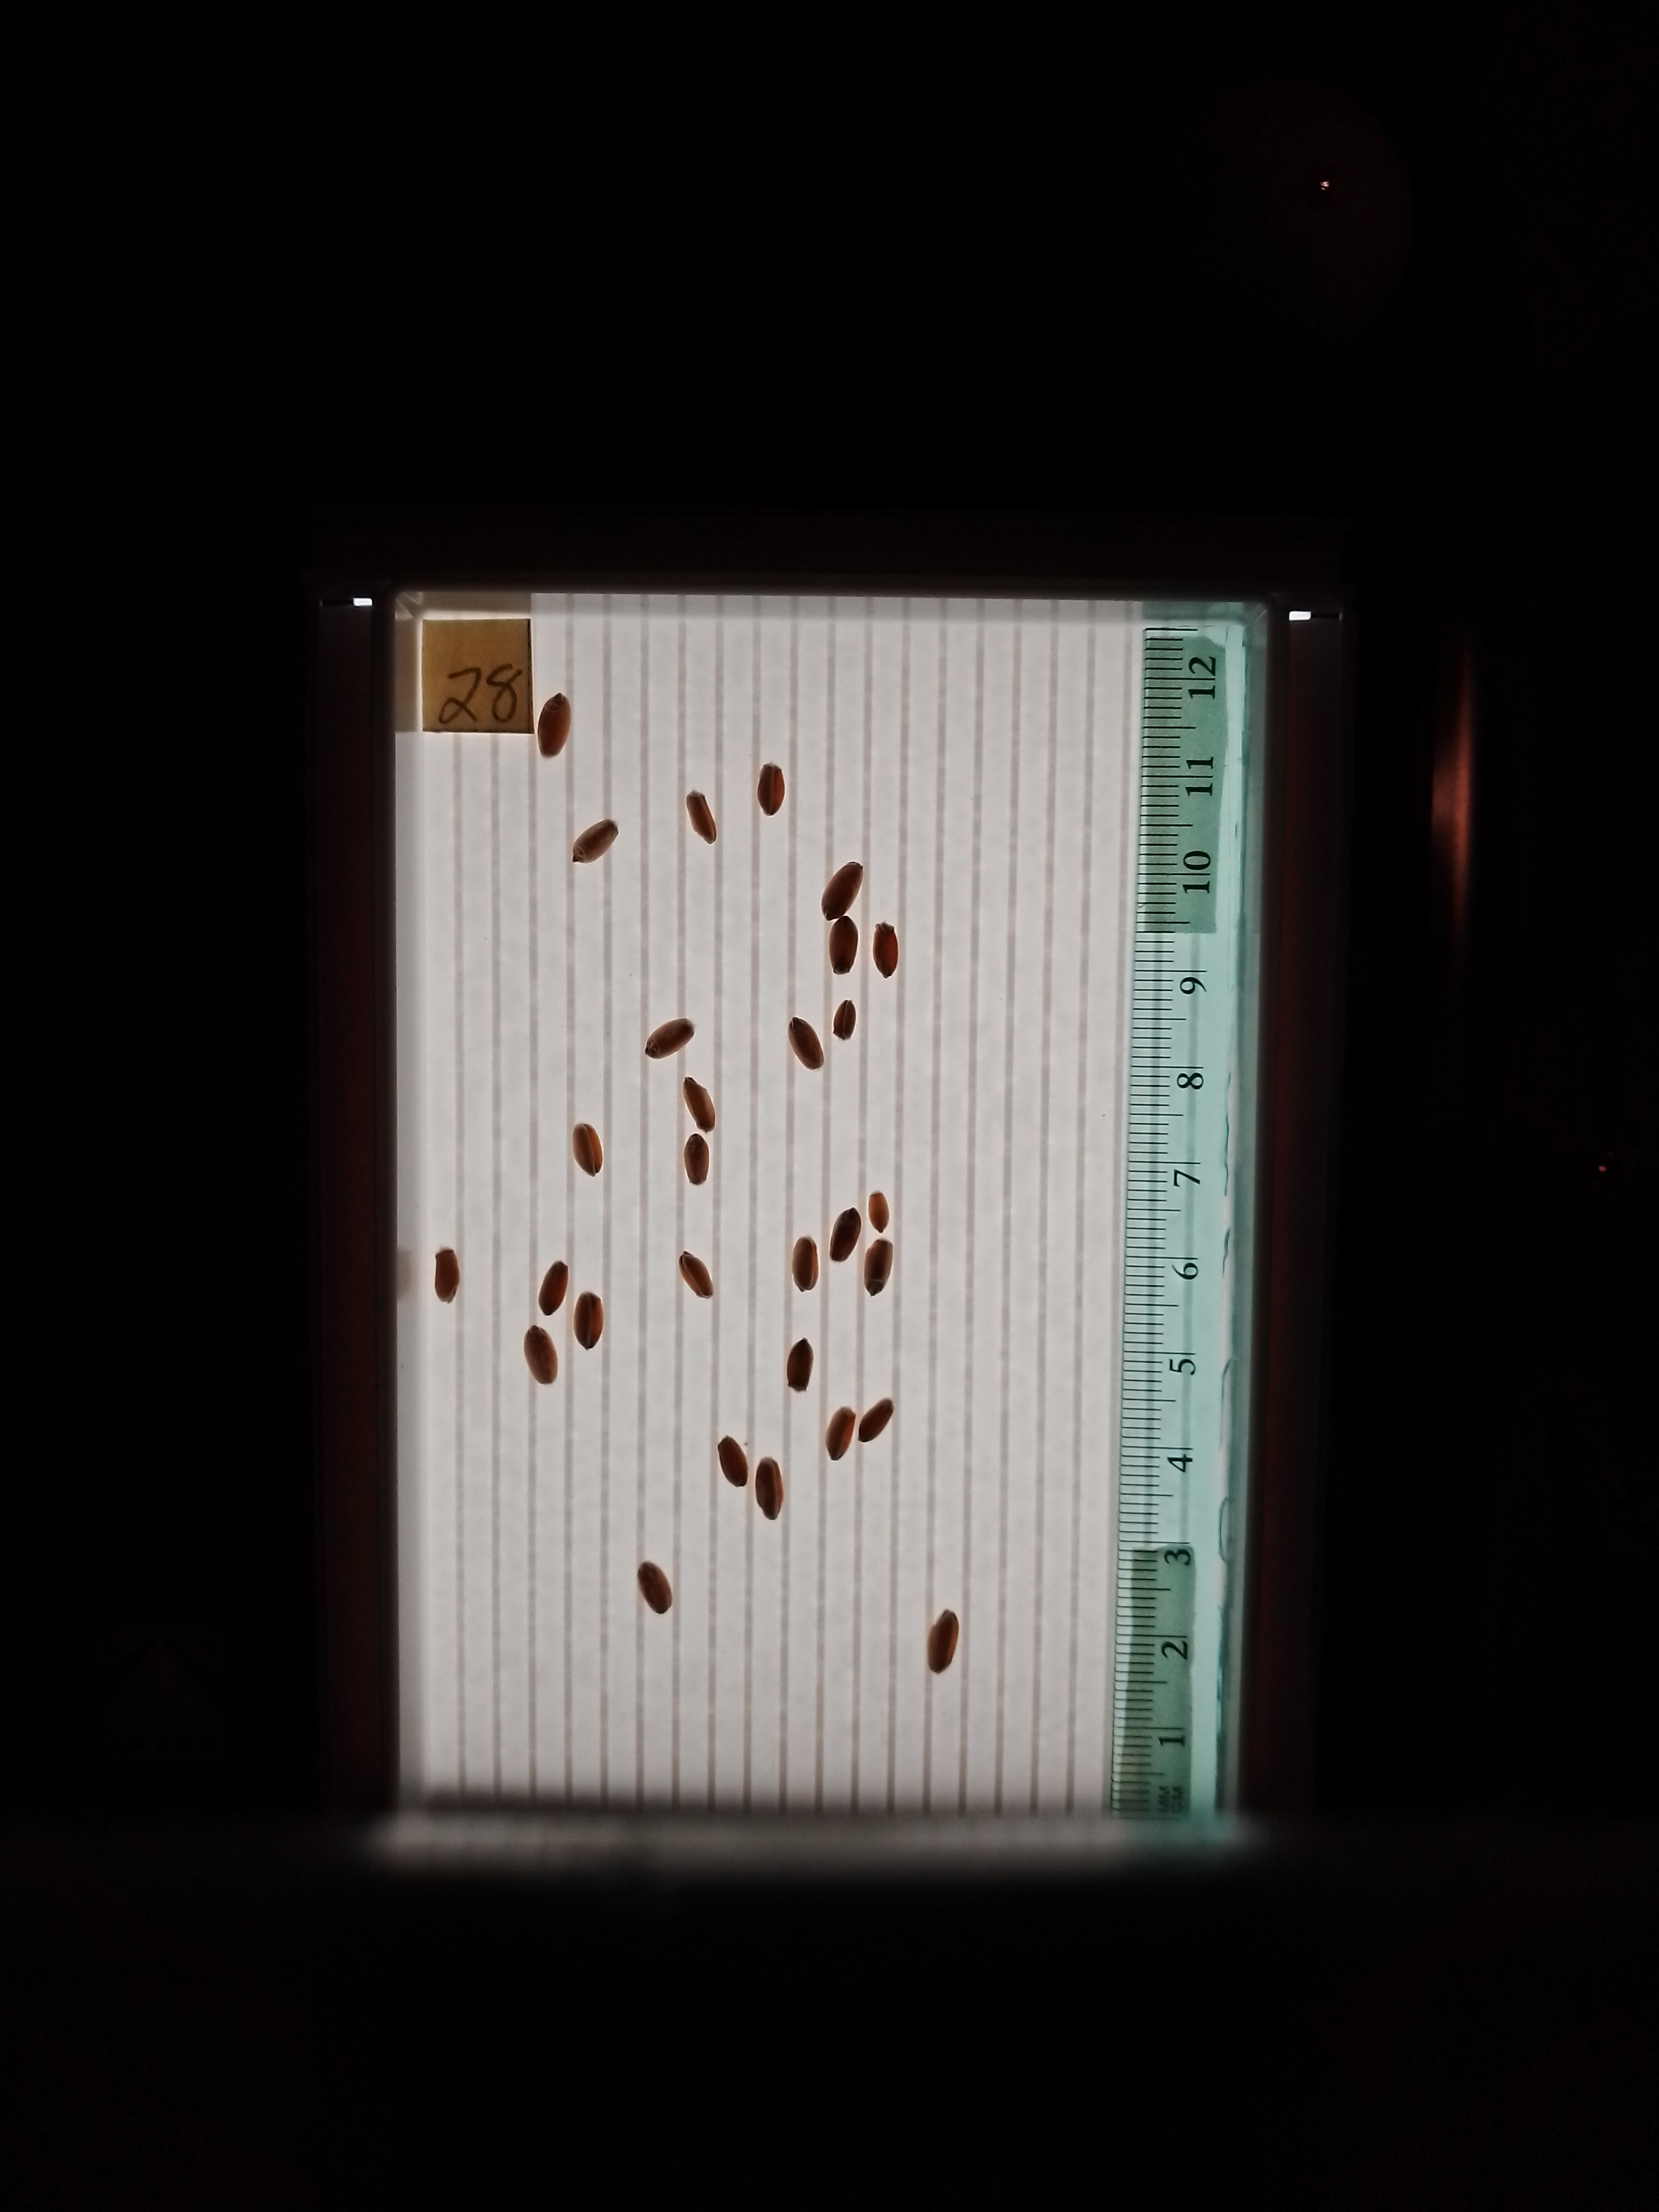seed mask: (823, 862, 863, 918), (537, 693, 570, 758), (927, 1611, 960, 1674), (572, 820, 617, 864), (645, 1019, 694, 1059), (525, 1327, 558, 1385), (789, 1019, 824, 1069), (638, 1562, 673, 1613), (573, 1294, 605, 1348), (830, 1209, 861, 1263), (755, 1460, 782, 1519), (572, 1123, 603, 1176), (830, 916, 857, 974), (685, 1078, 714, 1132), (756, 763, 786, 815), (864, 1240, 892, 1294), (680, 1252, 713, 1298), (687, 792, 716, 843), (538, 1263, 568, 1313), (826, 1407, 856, 1458), (718, 1437, 748, 1486), (859, 1400, 892, 1442), (434, 1249, 460, 1301), (791, 1238, 817, 1291), (873, 925, 899, 975), (786, 1339, 812, 1390), (685, 1136, 709, 1183), (868, 1193, 889, 1230), (833, 1003, 854, 1038)
